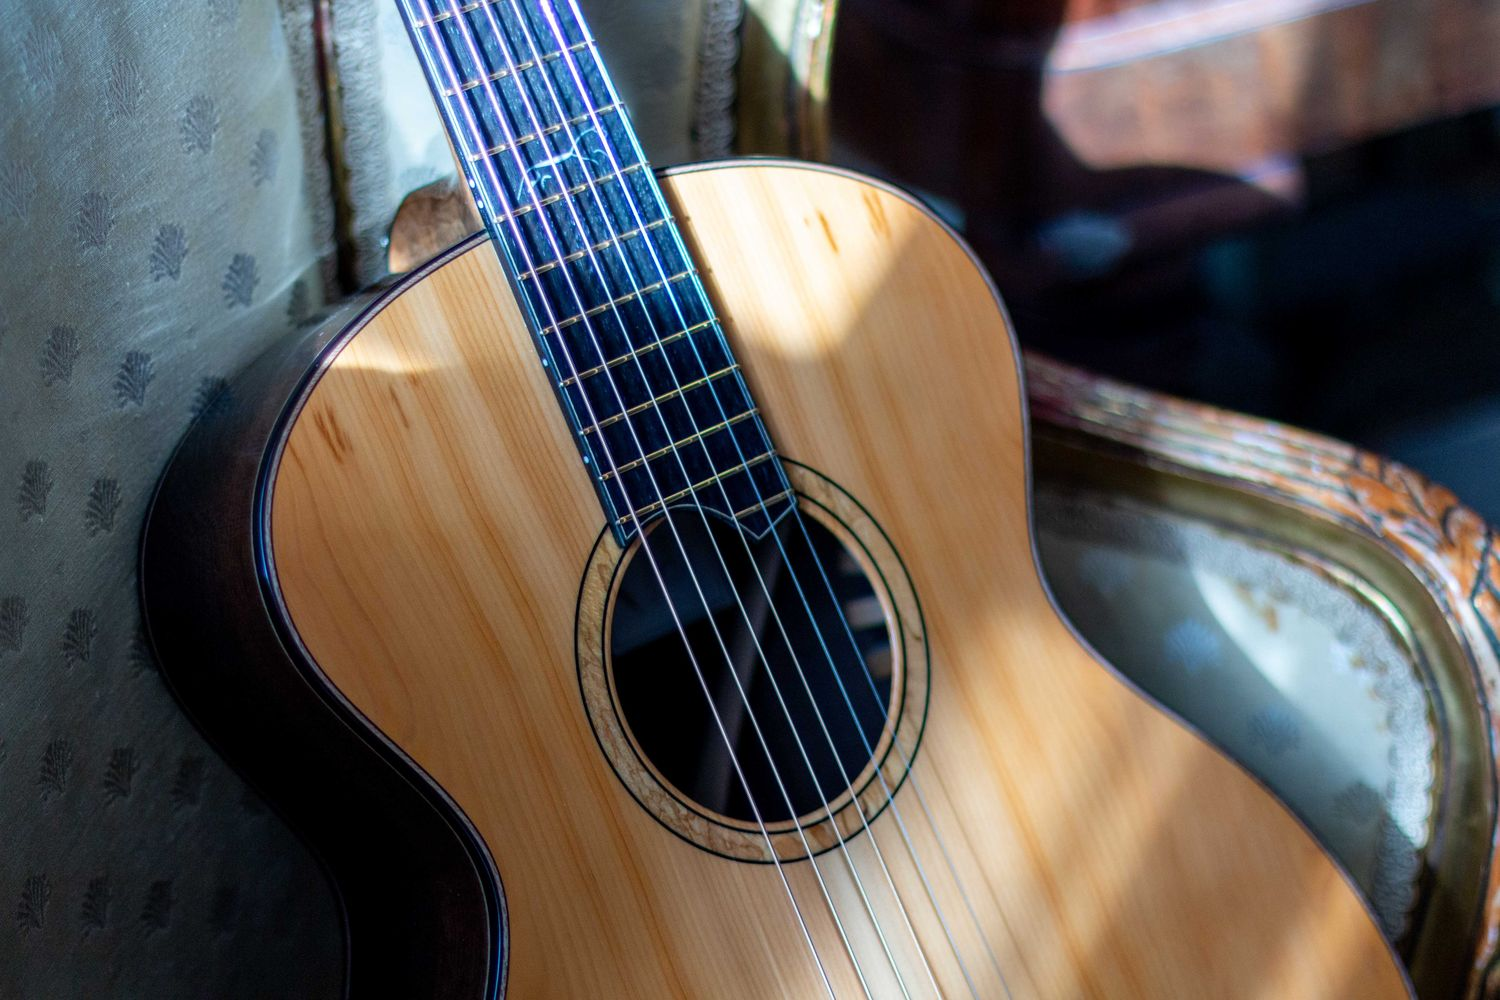guitar: (167, 0, 1500, 1000)
